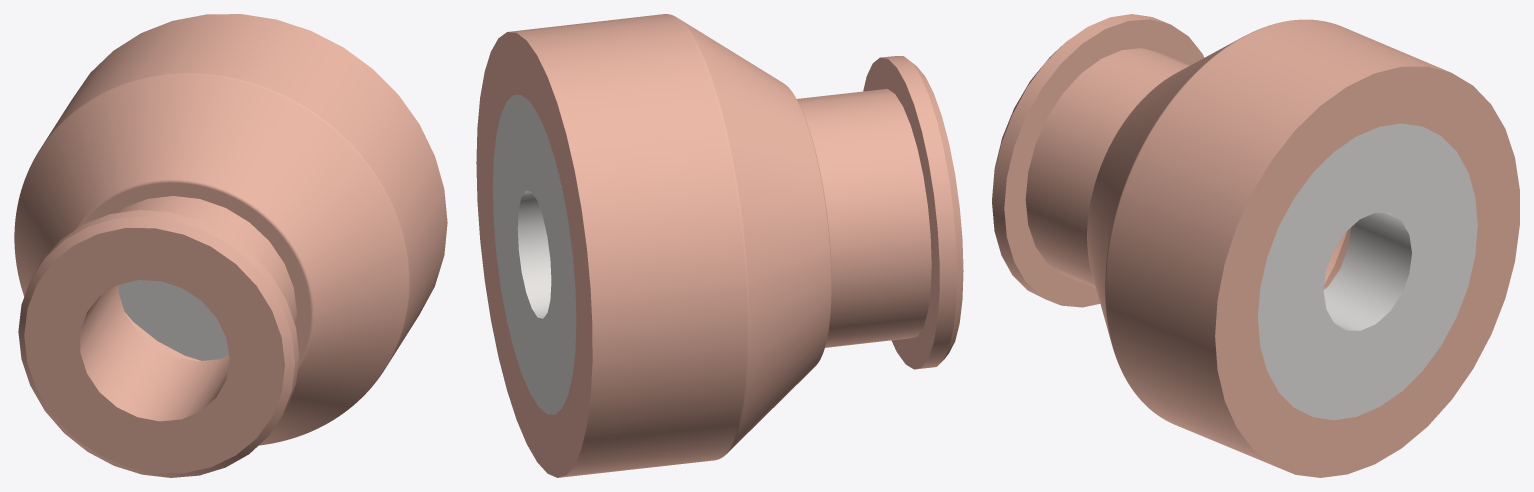
File: 10.1_truba-kontakta-tk-1000.glb
The picture shows the model from 3 angles, left to right: view 1: azimuth 30°, elevation 25°; view 2: azimuth 150°, elevation 25°; view 3: azimuth 270°, elevation 25°; orthographic projection. The views are drawn at different scales.
Parts seen in each view (by area): view 1: 10.1_truba-kontakta-tk-1000; view 2: 10.1_truba-kontakta-tk-1000; view 3: 10.1_truba-kontakta-tk-1000.
Boxes of the visible parts, left/top/right/bottom form: 10.1_truba-kontakta-tk-1000: left=14, top=14, right=447, bottom=477; 10.1_truba-kontakta-tk-1000: left=476, top=14, right=963, bottom=477; 10.1_truba-kontakta-tk-1000: left=992, top=14, right=1519, bottom=477.
Bounding box in the file's own units: 61.17 × 49.99 × 61.09.
